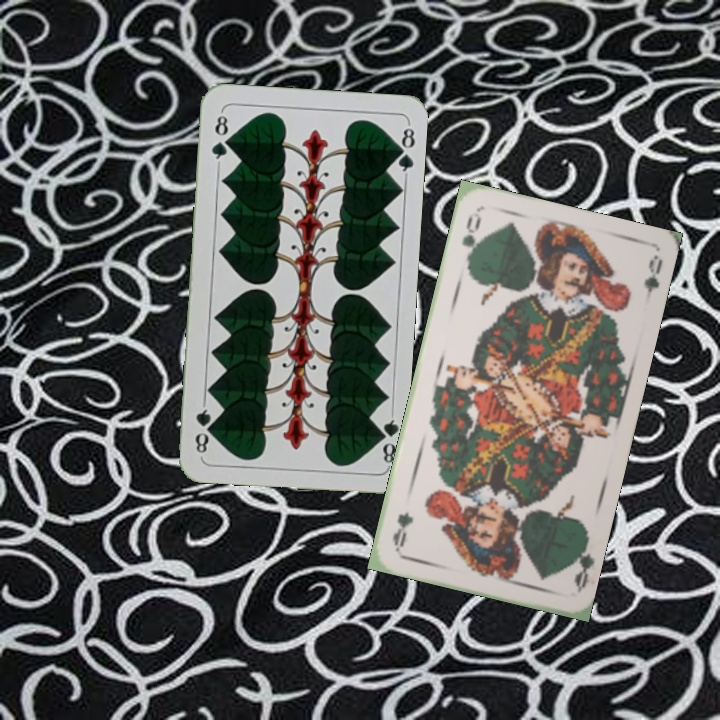G8: (372, 409, 400, 468), (207, 108, 232, 167)
GO: (566, 534, 596, 593), (457, 208, 484, 268)
